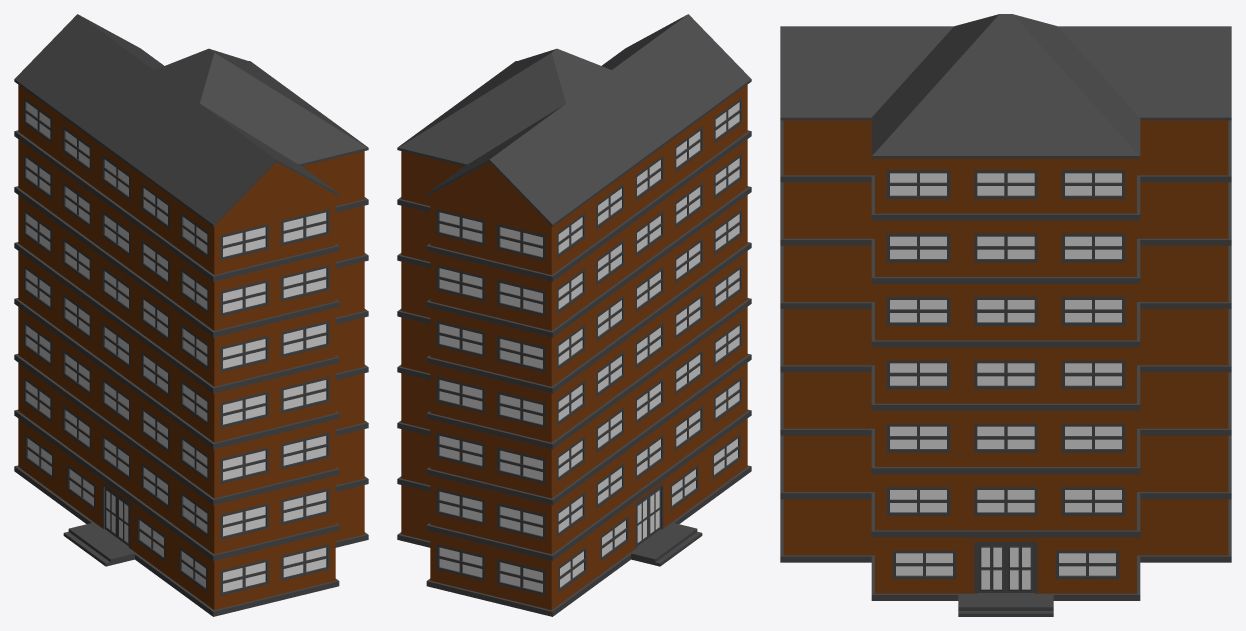
Rendered from business building 29.fbx.
The picture shows the model from 3 angles, left to right: view 1: azimuth 30°, elevation 25°; view 2: azimuth 150°, elevation 25°; view 3: azimuth 270°, elevation 25°; orthographic projection. The views are drawn at different scales.
Parts seen in each view (by area): view 1: building_001; view 2: building_001; view 3: building_001.
Part boxes in pixels (x1,y1,x2,y2): building_001: (14,14,368,616); building_001: (397,14,751,616); building_001: (780,14,1231,616).
Size of the model in its own units: 1046 by 1850 by 1420.
